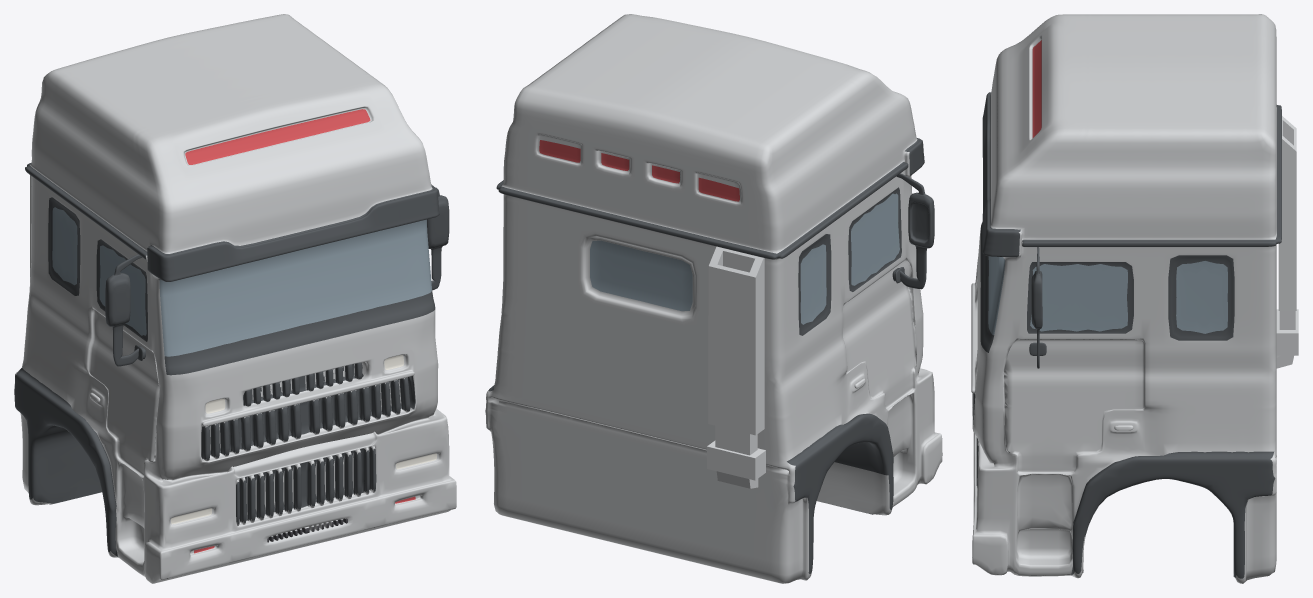
The model's file is truck-cab-daf.glb.
3 renders of one model, left to right at view 1: azimuth 30°, elevation 25°; view 2: azimuth 150°, elevation 25°; view 3: azimuth 270°, elevation 25°, orthographic. The views are drawn at different scales.
Parts seen in each view (by area): view 1: truck_daf; view 2: truck_daf; view 3: truck_daf.
Part boxes in pixels (left/top/right/bottom): truck_daf: left=14, top=14, right=456, bottom=583; truck_daf: left=485, top=14, right=942, bottom=583; truck_daf: left=971, top=14, right=1298, bottom=583.
Bounding box in the file's own units: 3.68 × 4.39 × 2.94.
